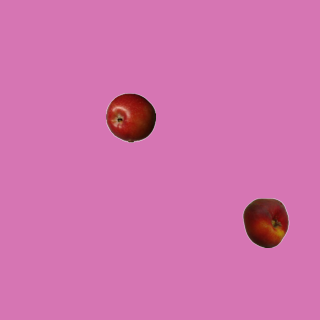Apple Braeburn: (105, 92, 155, 142)
Nectarine Flat: (240, 197, 290, 247)
